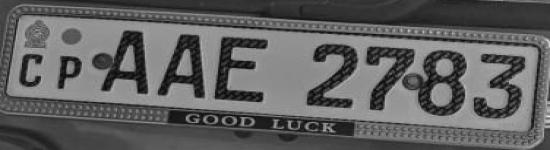2: (303, 38, 362, 114)
3: (471, 48, 532, 126)
7: (361, 40, 417, 116)
8: (417, 44, 471, 122)
A: (98, 24, 153, 101), (156, 29, 210, 104)
C: (17, 51, 50, 90)
E: (208, 33, 276, 108)
P: (55, 53, 86, 92)
